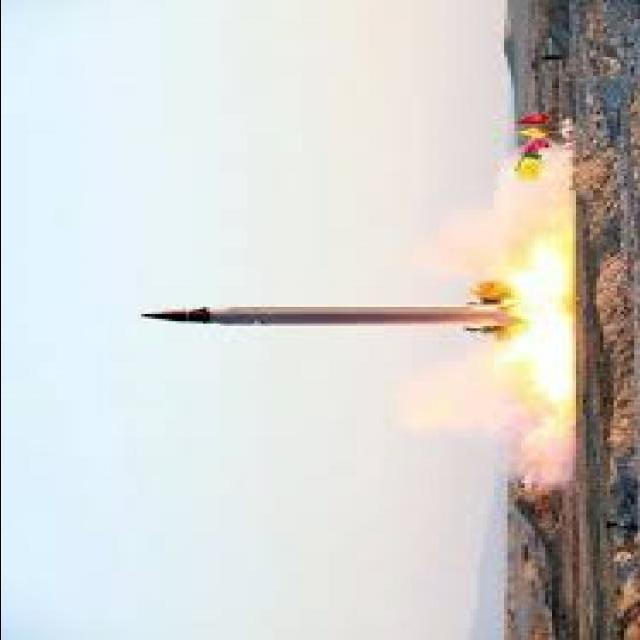Missile: (128, 299, 495, 334)
